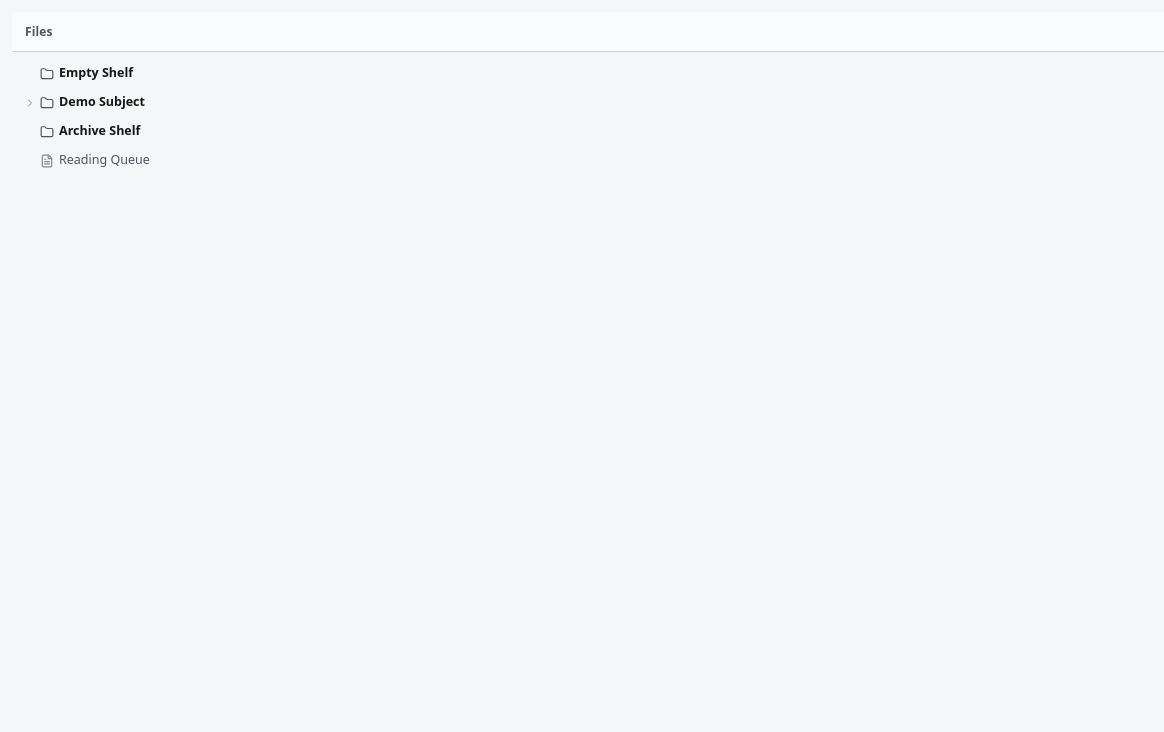
FileExplorer › clears an active note even while its path is absent from the current tree
The width and height of the screenshot is (1164, 732).
(page scrolled)
Click the element named "Files" at (588, 392), box [12,52,1163,731]
(page scrolled)
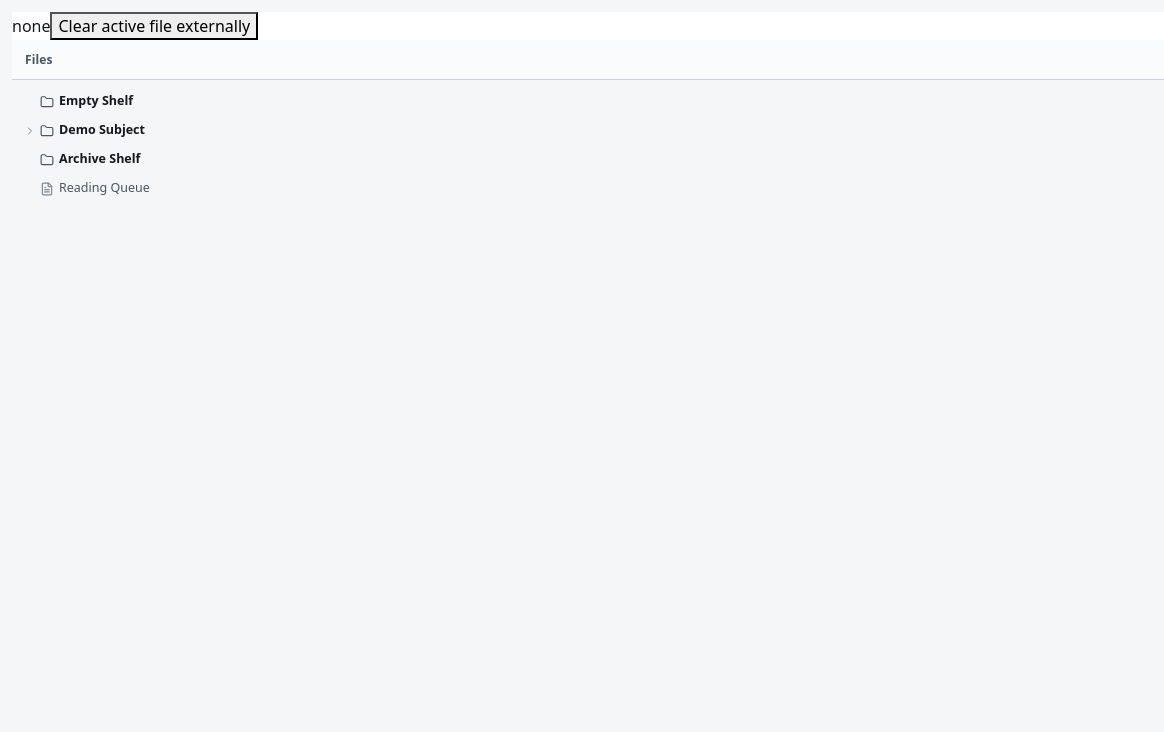
Check: the text with test id "active-file" reads "none", box [12,15,50,37]
